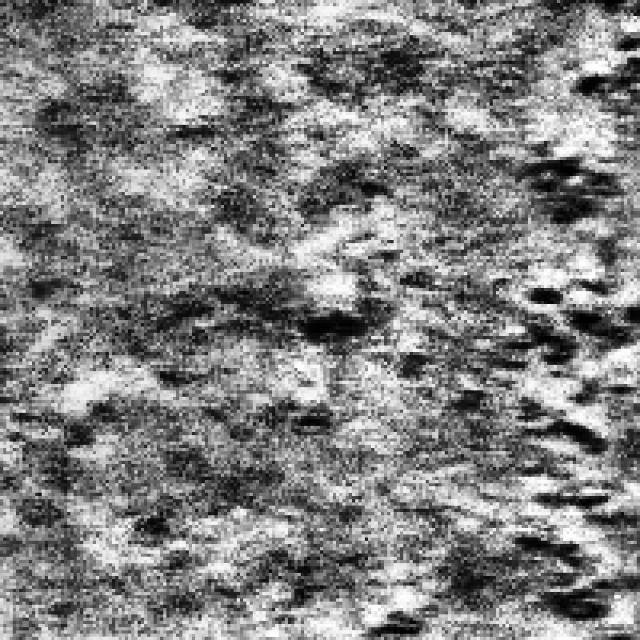Crazing: (444, 252, 634, 628), (74, 266, 394, 444), (506, 19, 636, 262)
